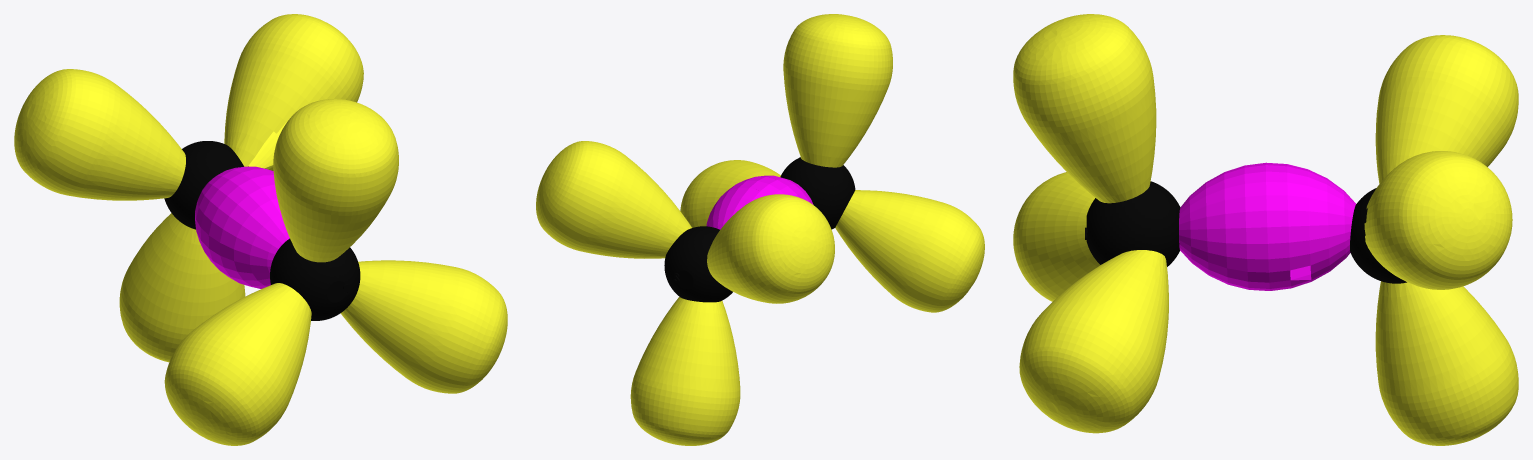
The model's file is 1Carbono_sp3+sp3.glb.
3 views of the same model, side by side, from view 1: azimuth 30°, elevation 25°; view 2: azimuth 150°, elevation 25°; view 3: azimuth 270°, elevation 25° (orthographic). The views are drawn at different scales.
Parts seen in each view (by area): view 1: root; view 2: root; view 3: root.
Boxes of the visible parts, x1,y1,x2,y2 form: root: (14,14,507,445); root: (536,14,984,445); root: (1013,14,1518,445).
Bounding box in the file's own units: 1.15 × 1.19 × 1.34.
